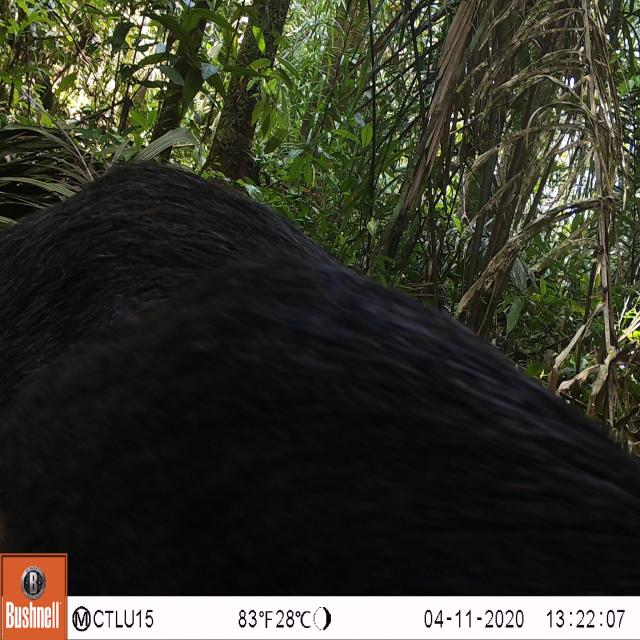White-lipped Peccary: (0, 159, 640, 597)
